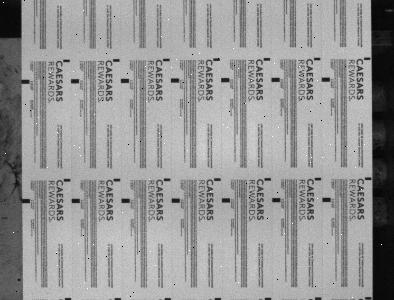qblock: (321, 77, 330, 82), (121, 198, 130, 203), (272, 198, 281, 203), (171, 198, 180, 203), (121, 79, 129, 84), (71, 79, 79, 84), (221, 78, 229, 83), (222, 198, 230, 203), (271, 78, 280, 82), (322, 198, 331, 202), (21, 199, 30, 203), (171, 79, 179, 83), (72, 199, 80, 203), (21, 80, 29, 84)
smallqblock: (163, 58, 170, 62), (364, 57, 371, 61), (164, 178, 171, 182), (365, 177, 372, 181), (64, 178, 70, 182), (114, 178, 120, 182), (164, 297, 172, 300), (63, 60, 70, 63), (213, 58, 220, 61), (264, 178, 271, 181), (314, 178, 321, 181), (214, 178, 221, 181), (64, 297, 71, 300), (264, 297, 271, 300), (214, 297, 221, 300), (315, 297, 322, 300), (114, 297, 121, 300), (365, 297, 372, 300), (113, 59, 120, 62), (264, 58, 270, 61), (314, 58, 320, 61)
